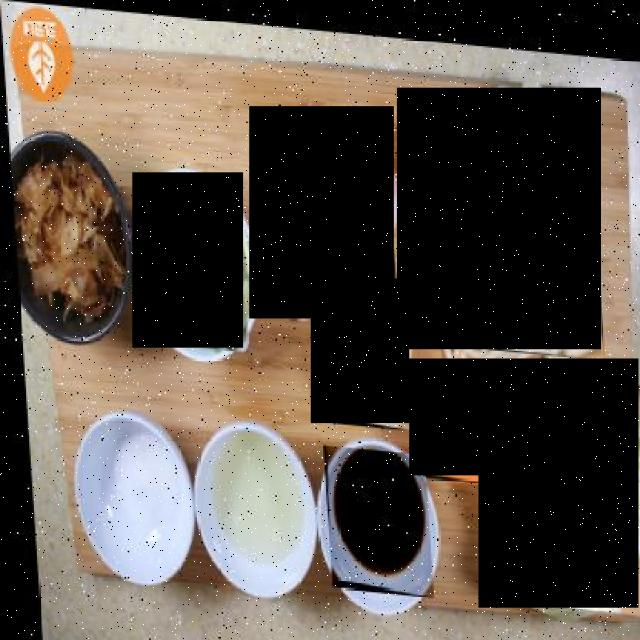Bacon: (249, 106, 394, 319)
Cabbage: (478, 358, 638, 608)
Carrot: (409, 358, 491, 476)
Onion: (311, 279, 409, 423)
Onion_Leaves: (133, 173, 244, 347)
Soy_Sauce: (316, 439, 426, 590)
noodle: (397, 88, 600, 349)
